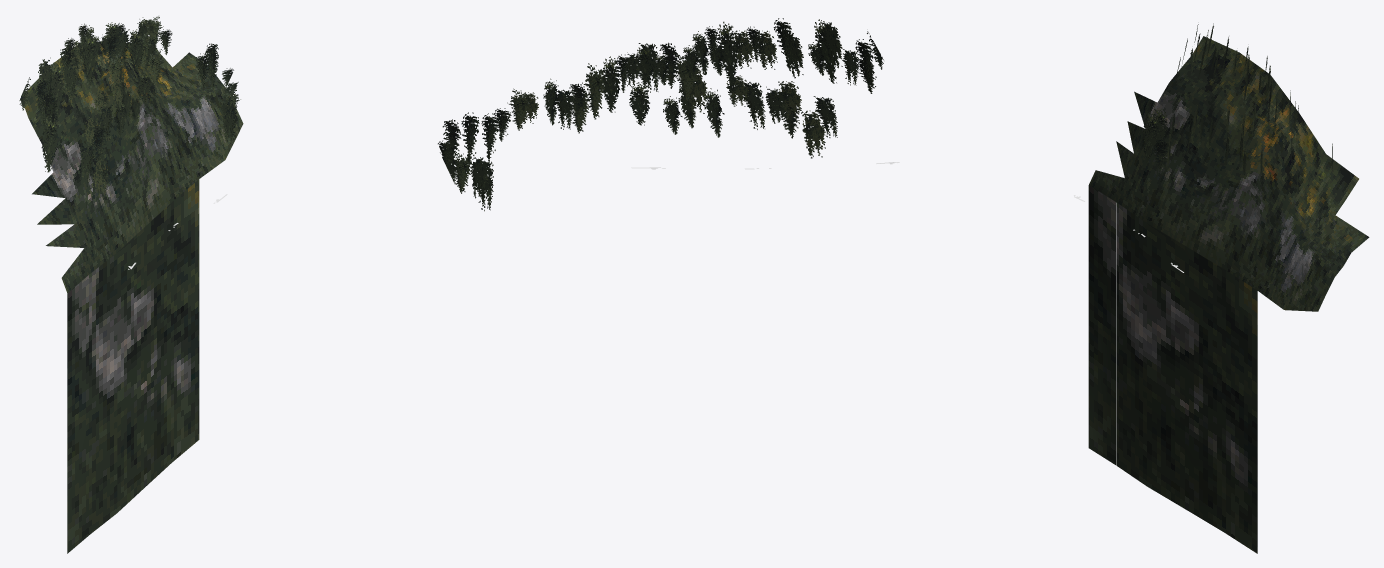
File: world_camden_17_-15.gltf
3 renders of one model, left to right at view 1: azimuth 30°, elevation 25°; view 2: azimuth 150°, elevation 25°; view 3: azimuth 270°, elevation 25°, orthographic. The views are drawn at different scales.
Bounding box in the file's own units: 357 × 400 × 270.
Materials: 3 (3 with a texture image).
